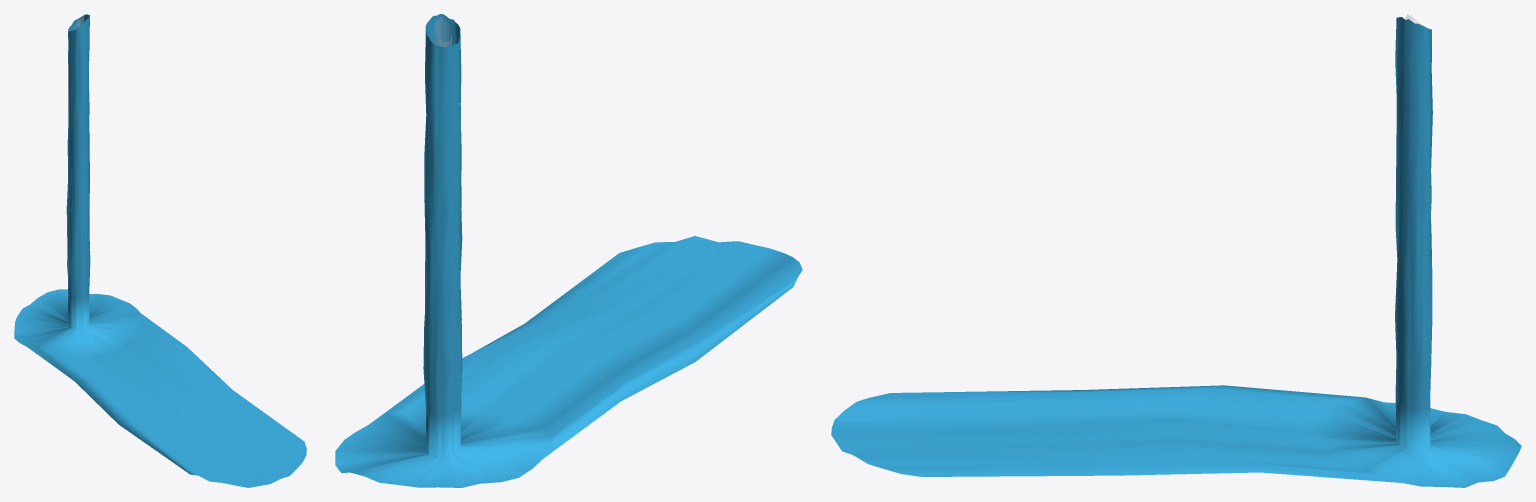
The model's file is mizu10100049.fbx.
The picture shows the model from 3 angles, left to right: view 1: azimuth 30°, elevation 25°; view 2: azimuth 150°, elevation 25°; view 3: azimuth 270°, elevation 25°; orthographic projection. The views are drawn at different scales.
Parts seen in each view (by area): view 1: 円; view 2: 円; view 3: 円.
Boxes of the visible parts, x1=… form: 円: x1=14, y1=14, x2=306, y2=487; 円: x1=335, y1=14, x2=802, y2=487; 円: x1=831, y1=14, x2=1521, y2=487.
Size of the model in its own units: 0.00233 by 0.00529 by 0.00758.
